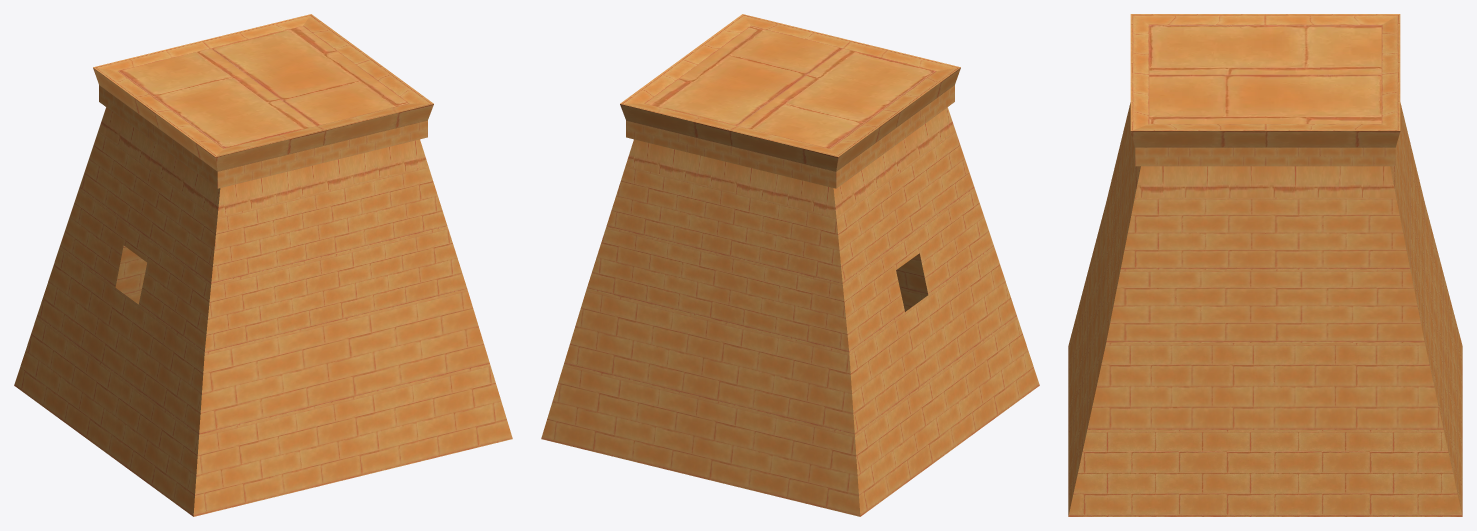
Rendered from temple-floor04.glb.
3 renders of one model, left to right at view 1: azimuth 30°, elevation 25°; view 2: azimuth 150°, elevation 25°; view 3: azimuth 270°, elevation 25°, orthographic. The views are drawn at different scales.
Visible parts, largest first — view 1: TempleFloor04_Art; view 2: TempleFloor04_Art; view 3: TempleFloor04_Art.
Part boxes in pixels (x1,y1,x2,y2): TempleFloor04_Art: (14, 14, 512, 516); TempleFloor04_Art: (541, 14, 1039, 516); TempleFloor04_Art: (1068, 14, 1462, 516).
Bounding box in the file's own units: 37.03 × 36.21 × 36.04.
Materials: 2 (2 with a texture image).
